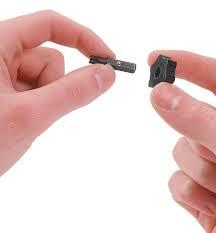screwdriver: (86, 53, 137, 73)
